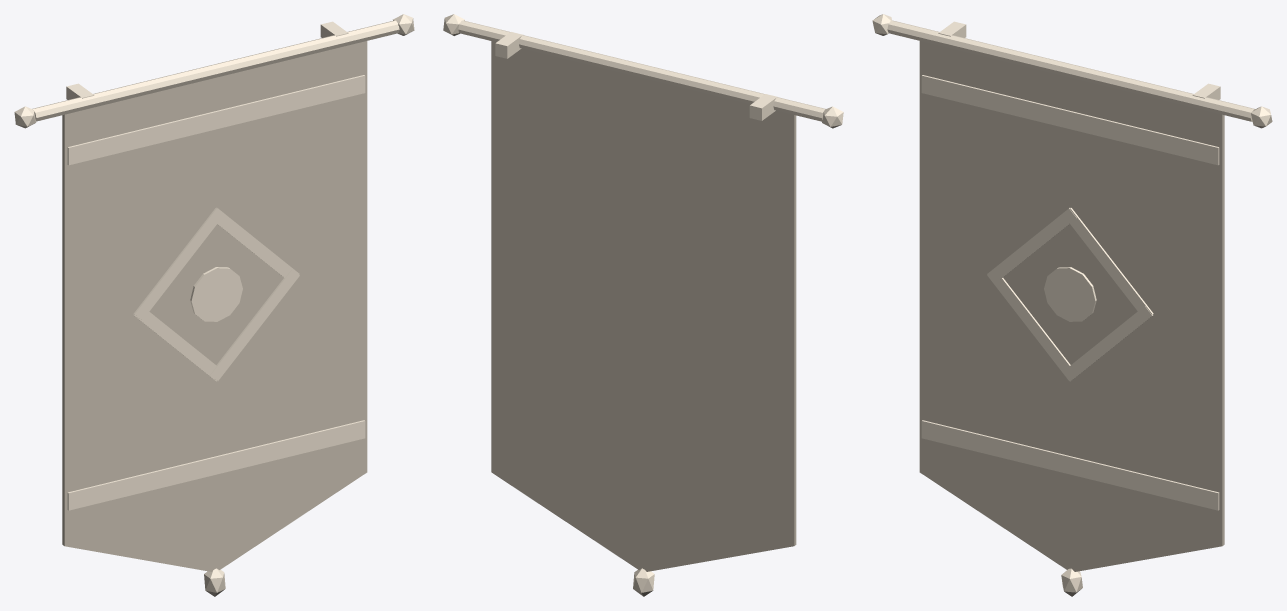
Rendered from SM_VKI_Prop_Banner_Dwarf.fbx.
3 renders of one model, left to right at view 1: azimuth 30°, elevation 25°; view 2: azimuth 150°, elevation 25°; view 3: azimuth 330°, elevation 25°, orthographic.
Parts seen in each view (by area): view 1: SM_VKI_Prop_Banner_Dwarf.001; view 2: SM_VKI_Prop_Banner_Dwarf.001; view 3: SM_VKI_Prop_Banner_Dwarf.001.
Boxes of the visible parts, left/top/right/bottom form: SM_VKI_Prop_Banner_Dwarf.001: left=14, top=14, right=414, bottom=596; SM_VKI_Prop_Banner_Dwarf.001: left=443, top=14, right=843, bottom=596; SM_VKI_Prop_Banner_Dwarf.001: left=872, top=14, right=1272, bottom=596.
Size of the model in its own units: 1.31 by 1.69 by 0.1168.
